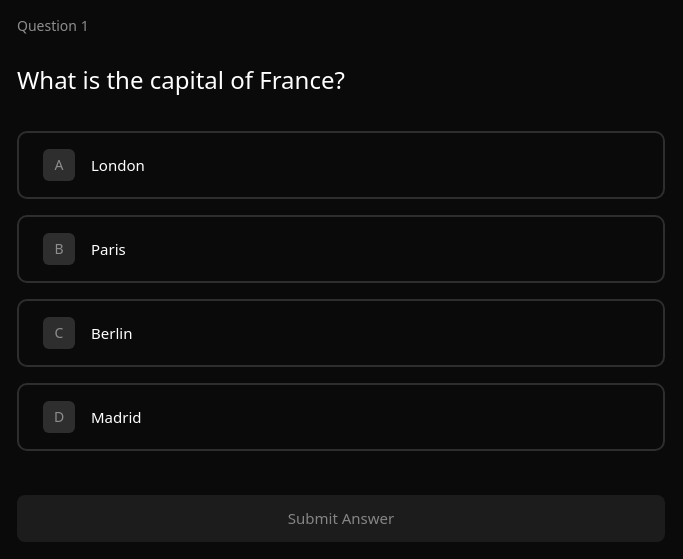
Test: StudentQuizQuestions › Submit Answer › should submit answer and display next question
This screenshot has width=683, height=559.
Check: the heading "What is the capital of France?" is shown, box [17,63,345,96]
# Select answer and submit
Click the button "B Paris" at (59, 249), box [17,215,665,283]
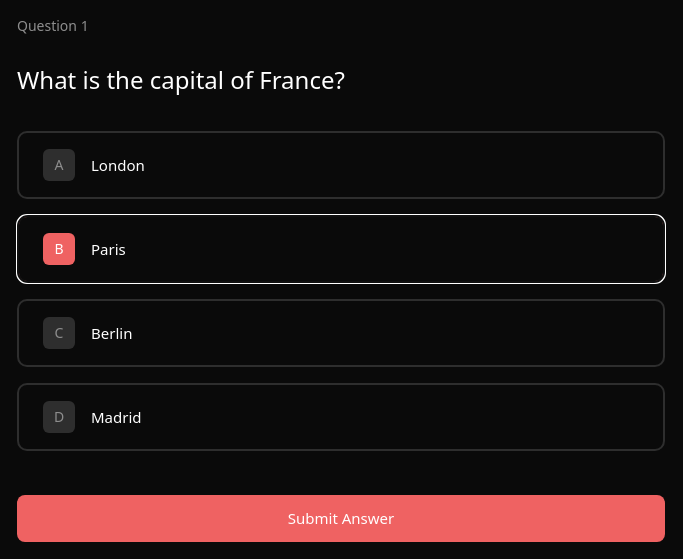
Click the button "Submit Answer" at (341, 518), box [17,495,665,542]
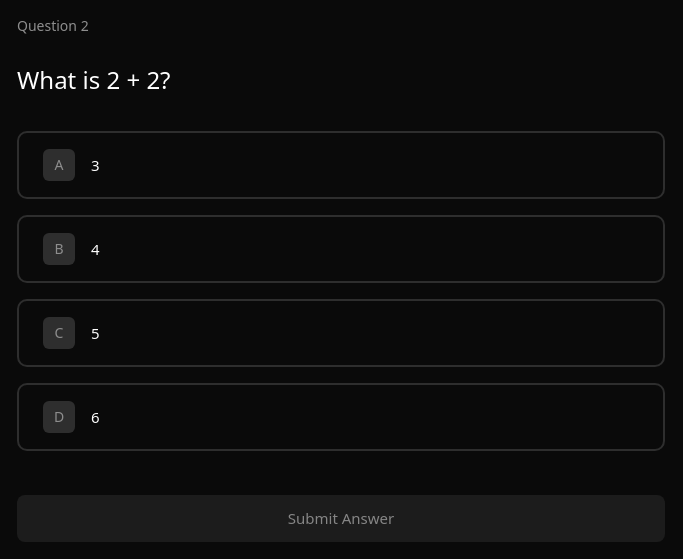
Check: the heading "What is 2 + 2?" is shown, box [17,63,170,96]
Check: the text "Question 2" is shown, box [17,16,89,35]
